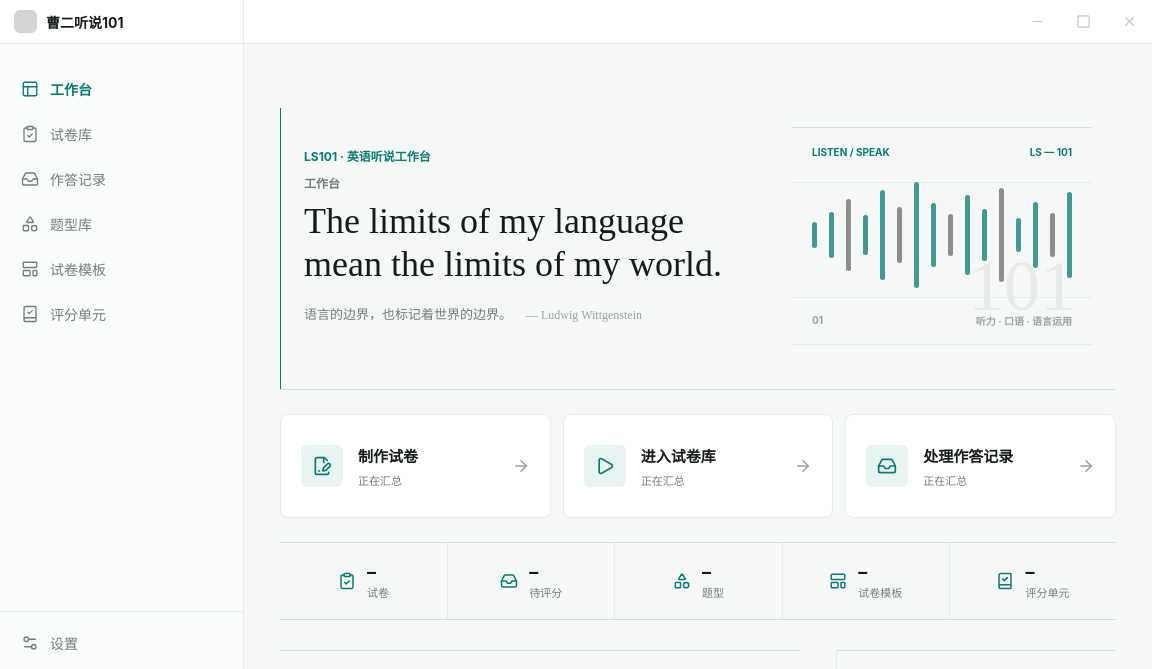
Test: App › renders workbench, interface and footer navigation registrations
Expected: the heading "工作台" is shown, [304,176,340,190]
Expected: the link "工作台" is shown, [21,80,92,98]
Click the link "题型库": {"x": 56, "y": 224} [21,215,92,233]
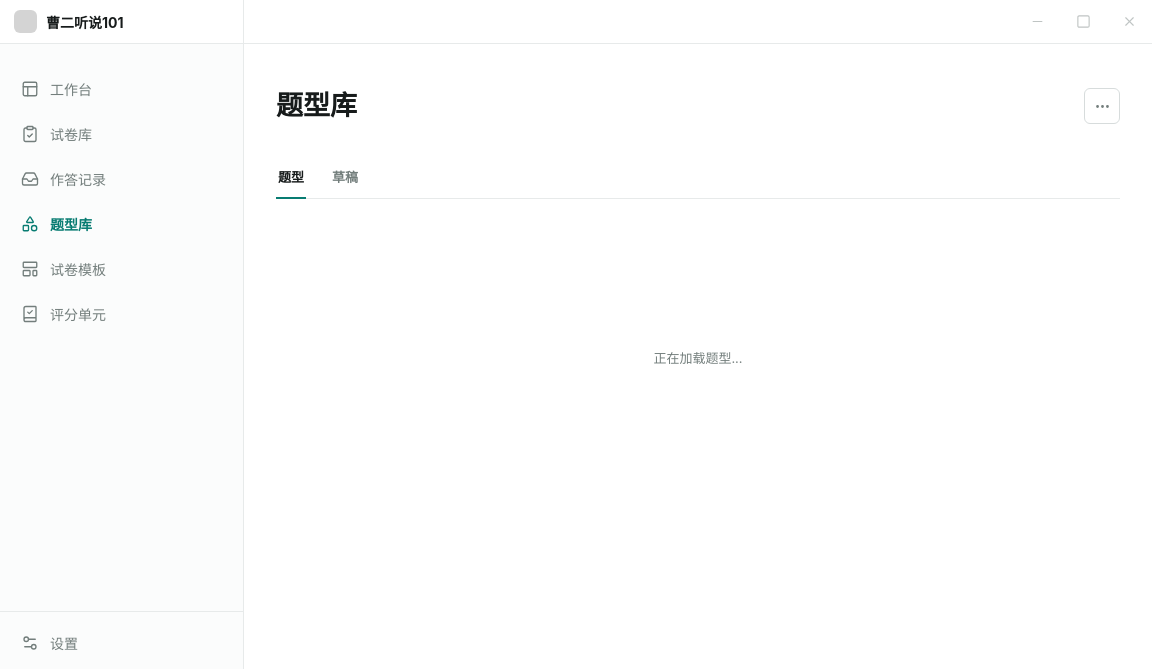
Result: the heading "题型库" is shown at [276,89,357,123]
Click the link "设置": {"x": 50, "y": 643} [21,634,78,652]
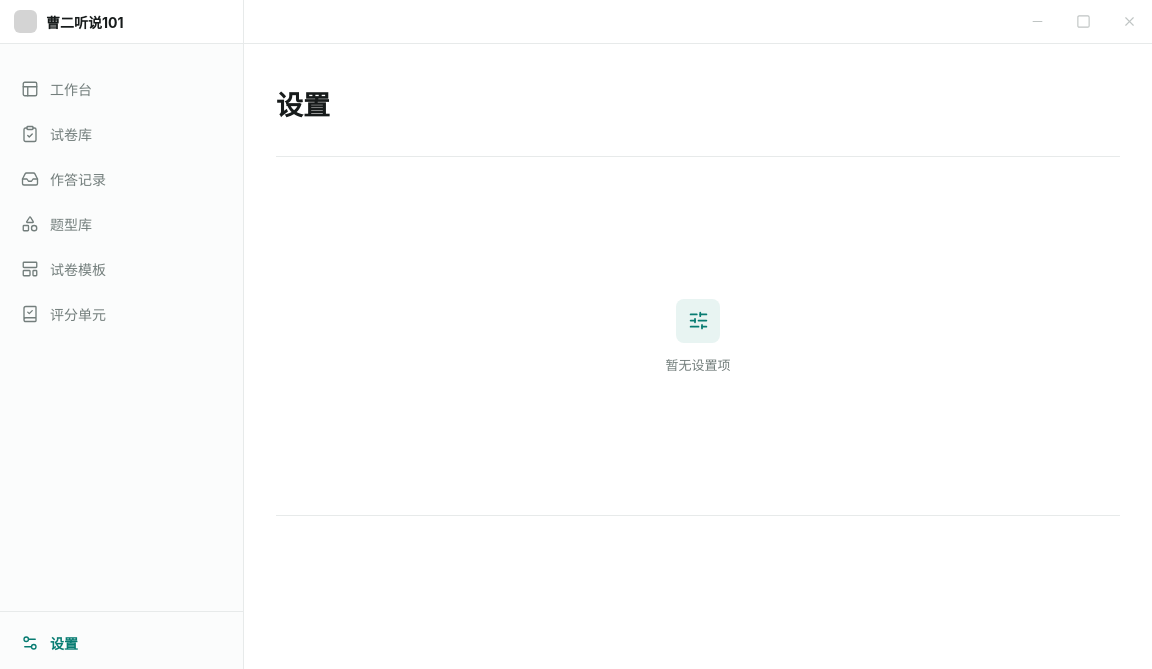
Result: the heading "设置" is shown at [276,89,330,123]
